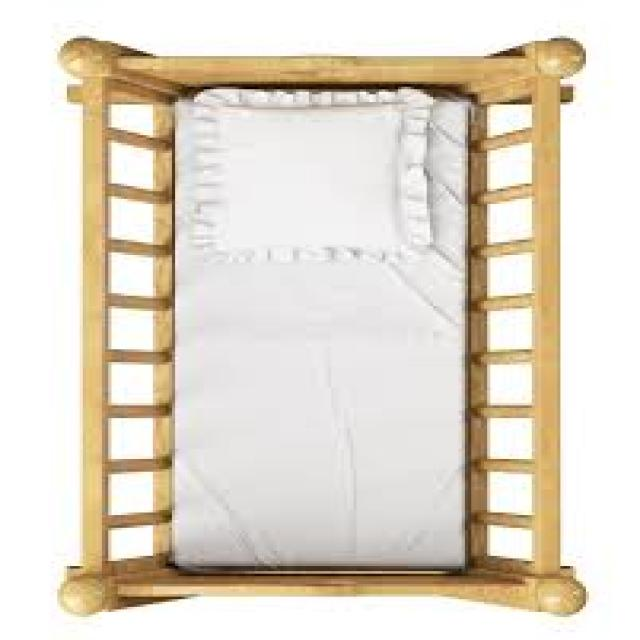crib: (54, 33, 586, 617)
